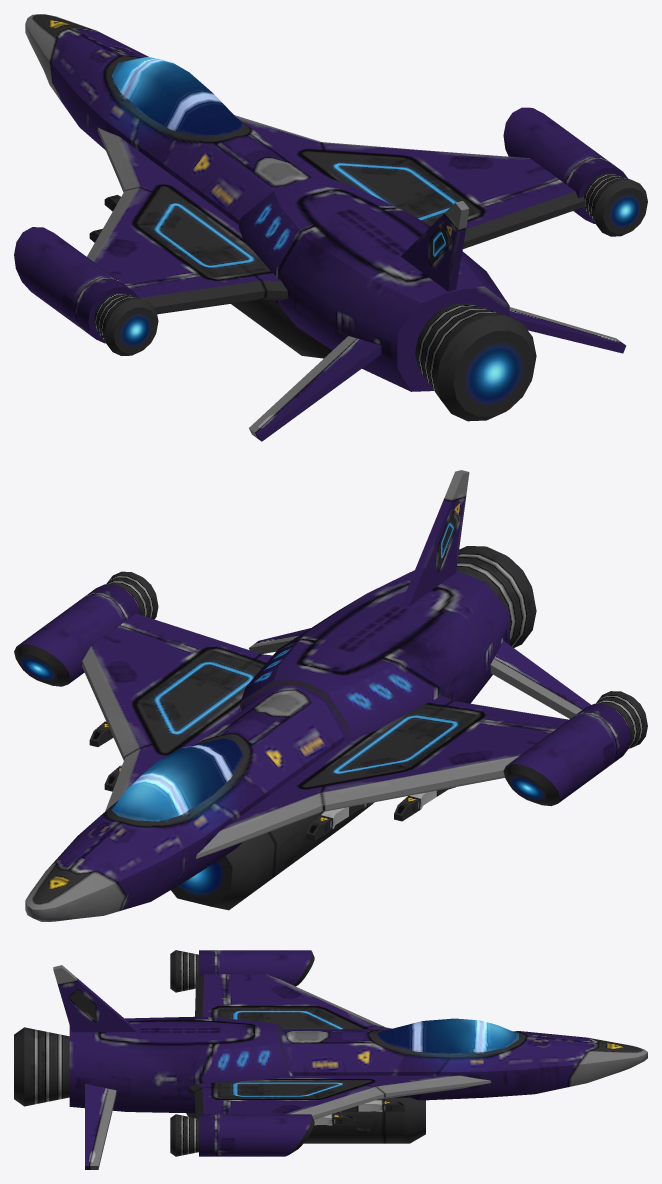
File: scout11.gltf
The picture shows the model from 3 angles, top to bottom: view 1: azimuth 30°, elevation 25°; view 2: azimuth 150°, elevation 25°; view 3: azimuth 270°, elevation 25°; orthographic projection. The views are drawn at different scales.
Visible parts, largest first — view 1: scout11; view 2: scout11; view 3: scout11.
Boxes of the visible parts, <box> form: scout11: <box>14,14,647,441</box>; scout11: <box>14,470,647,921</box>; scout11: <box>14,950,647,1169</box>.
Bounding box in the file's own units: 7.29 × 3.17 × 10.73.
1 material, 1 textured.
